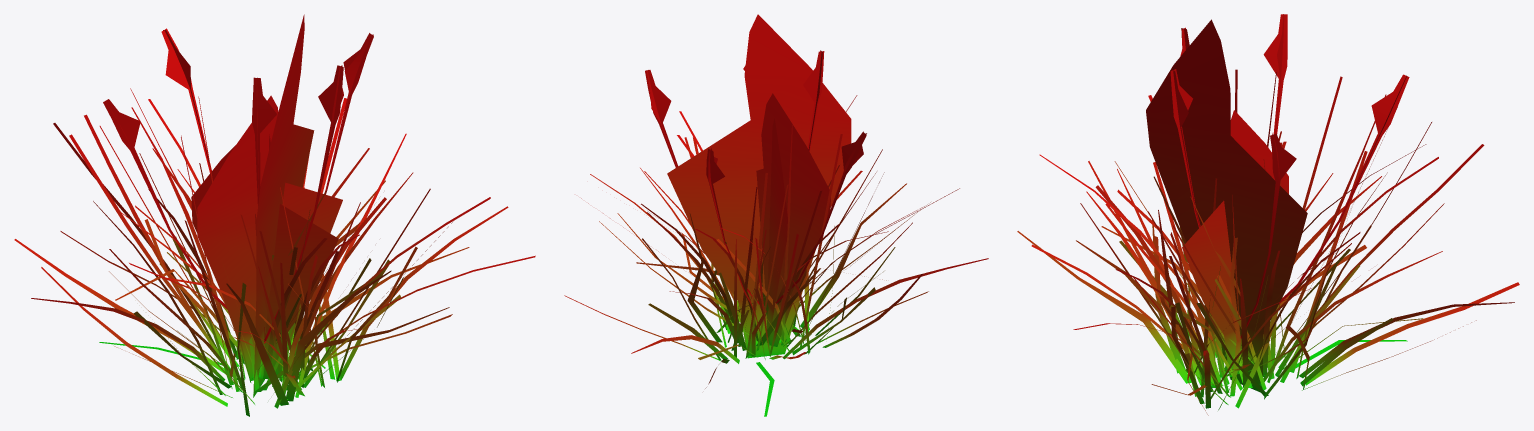
The model's file is Var1_LOD3.fbx.
3 views of the same model, side by side, from view 1: azimuth 30°, elevation 25°; view 2: azimuth 150°, elevation 25°; view 3: azimuth 270°, elevation 25° (orthographic). The views are drawn at different scales.
Visible parts, largest first — view 1: _dvdr_Var1_LOD3; view 2: _dvdr_Var1_LOD3; view 3: _dvdr_Var1_LOD3.
Part boxes in pixels (x1=…): _dvdr_Var1_LOD3: x1=14, y1=14, x2=535, y2=416; _dvdr_Var1_LOD3: x1=564, y1=14, x2=988, y2=416; _dvdr_Var1_LOD3: x1=1017, y1=14, x2=1519, y2=415.
Size of the model in its own units: 53.09 by 40.96 by 49.04.
